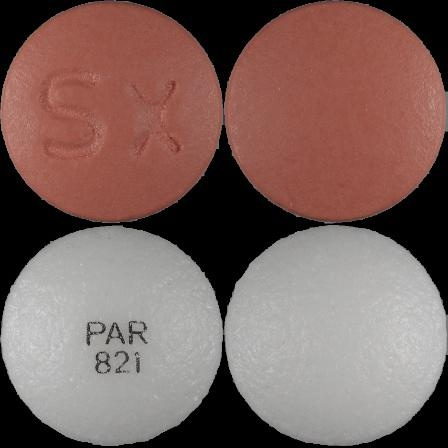68258-1107: (0, 0, 224, 224)
